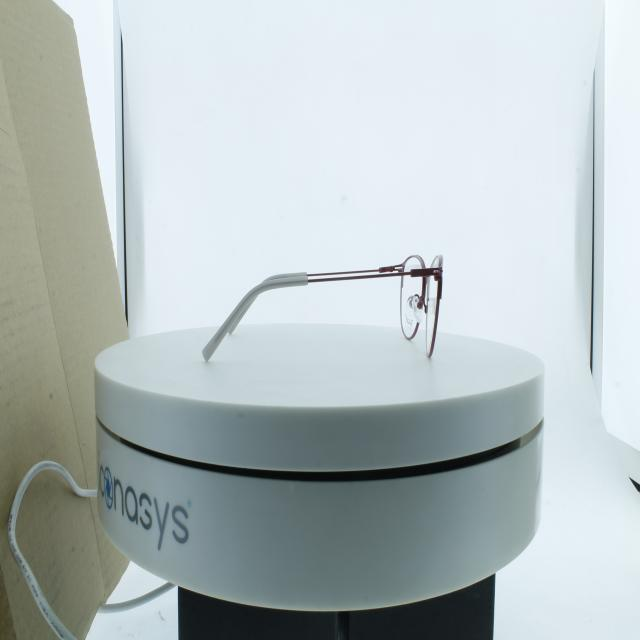Specs: (194, 234, 462, 386)
